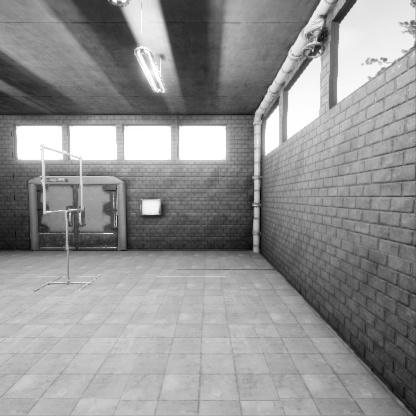gate: (40, 204, 83, 274)
